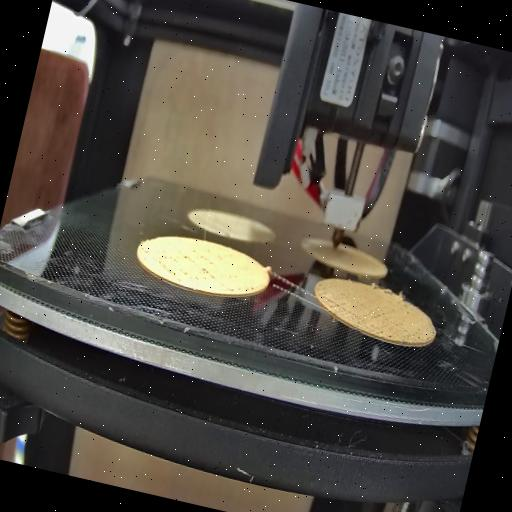under_extrusion: (154, 238, 222, 290), (366, 301, 426, 345), (320, 295, 360, 320), (232, 278, 257, 298)
